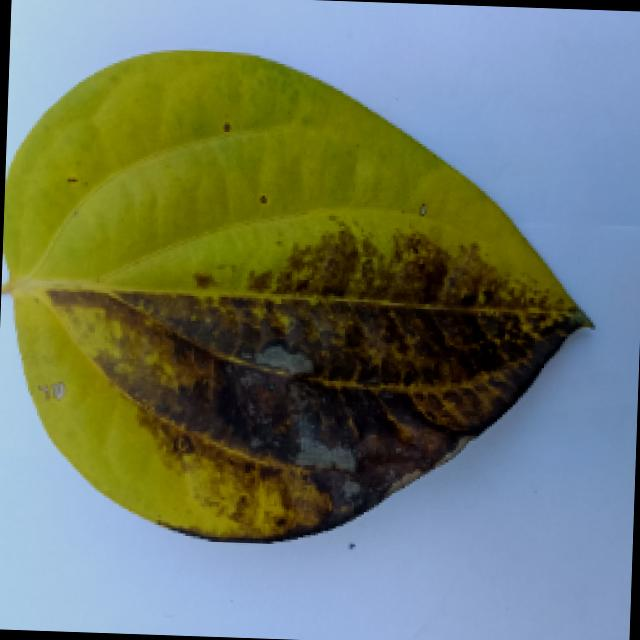slow-decline: (2, 47, 629, 568)
